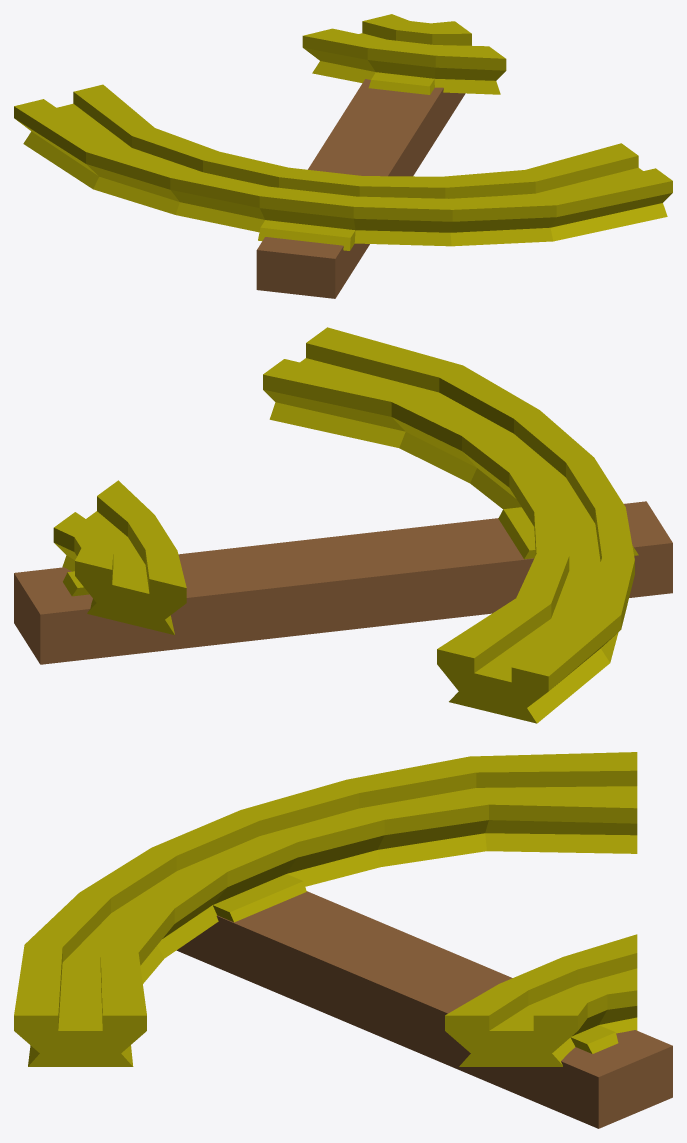
File: golden_curved_track.fbx
3 views of the same model, one above another, from view 1: azimuth 30°, elevation 25°; view 2: azimuth 150°, elevation 25°; view 3: azimuth 270°, elevation 25° (orthographic). The views are drawn at different scales.
Visible parts, largest first — view 1: Cube.021; view 2: Cube.021; view 3: Cube.021.
Part boxes in pixels (bbox=[...]): Cube.021: bbox=[14, 14, 672, 298]; Cube.021: bbox=[14, 327, 672, 723]; Cube.021: bbox=[14, 752, 672, 1128].
Bounding box in the file's own units: 193 × 31.82 × 193.
